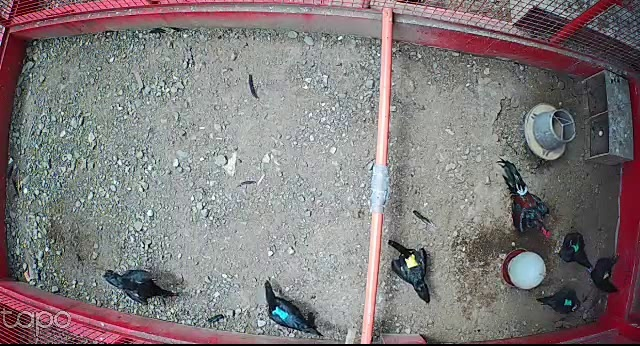Chicken: (254, 271, 325, 340), (101, 268, 187, 310), (383, 239, 434, 305), (549, 225, 595, 272), (586, 251, 622, 297), (533, 286, 585, 316)
Drinker: (500, 248, 547, 291)
Feeder: (523, 101, 577, 159)
Rooster: (495, 155, 554, 244)
Saddle_Color_Blue: (271, 304, 291, 322)
Saddle_Color_Yellow: (402, 254, 420, 268)
Saddle_Color_YellowGreen: (603, 271, 611, 279)
